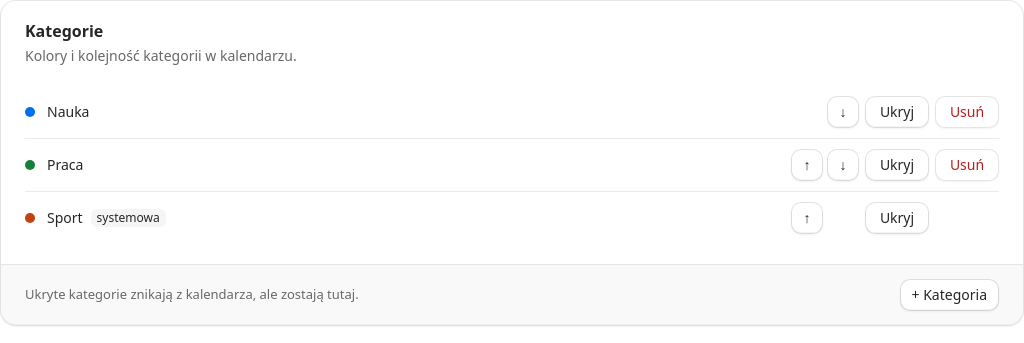
it: CategoriesCard › „Ukryj” → setCategoryHidden i przycisk zmienia się na „Pokaż”
This screenshot has width=1024, height=343.
Click the 2nd button "Ukryj" at (897, 165), box [865, 149, 929, 181]
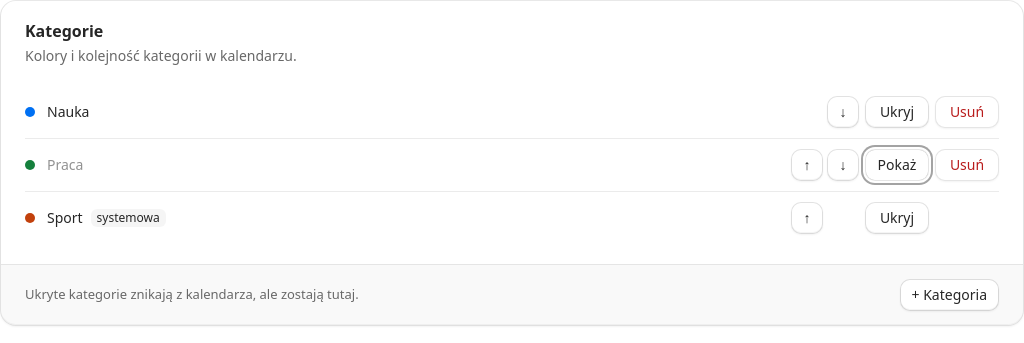
Now the button "Pokaż" is shown, box [865, 149, 929, 181]
